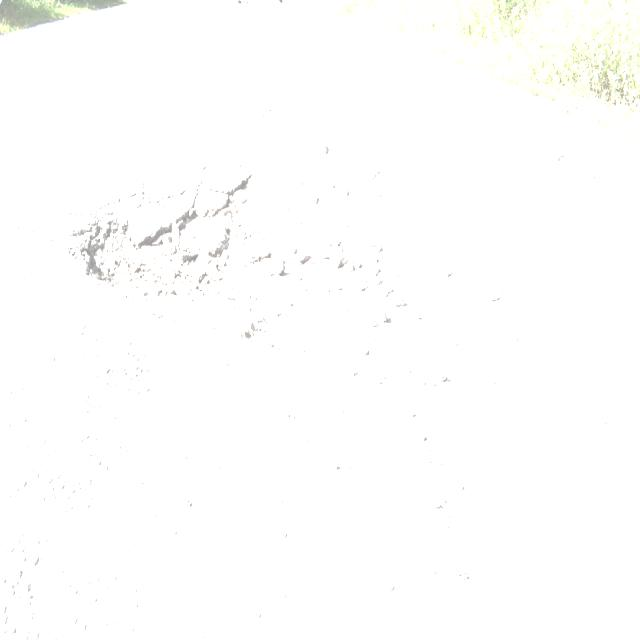Pothole: (52, 114, 472, 390)
